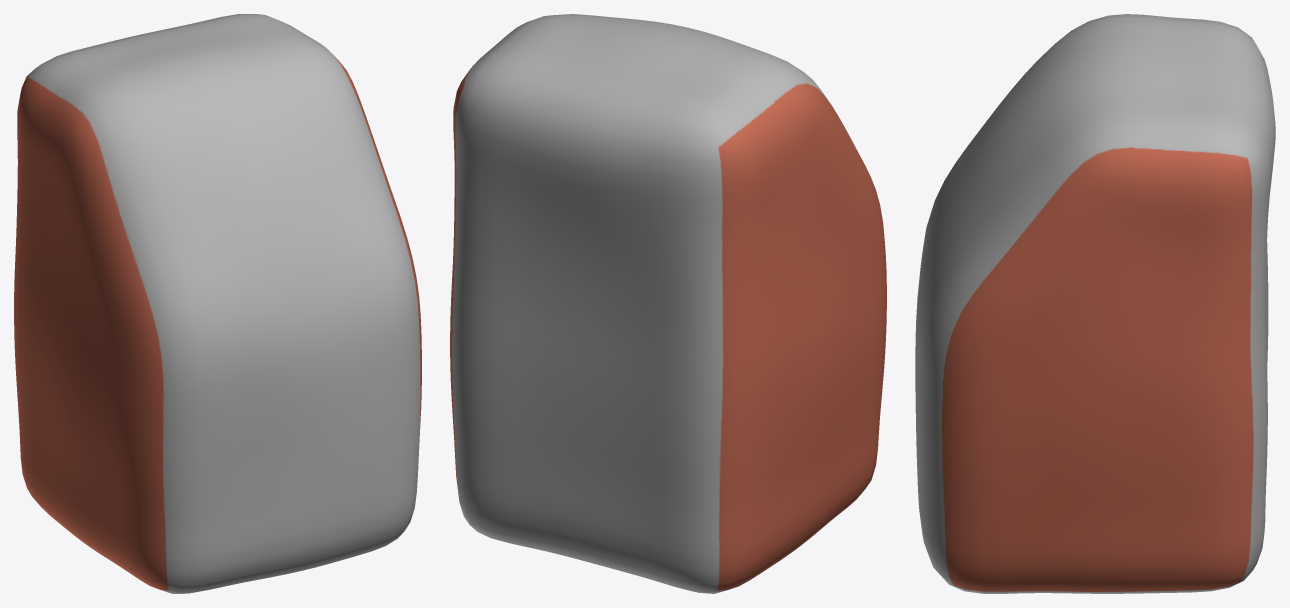
The model's file is Wing_L_S.fbx.
The picture shows the model from 3 angles, left to right: view 1: azimuth 30°, elevation 25°; view 2: azimuth 150°, elevation 25°; view 3: azimuth 270°, elevation 25°; orthographic projection. The views are drawn at different scales.
Parts seen in each view (by area): view 1: Wing_M; view 2: Wing_M; view 3: Wing_M.
Boxes of the visible parts, bbox=[...] form: Wing_M: bbox=[14, 14, 421, 593]; Wing_M: bbox=[450, 14, 886, 593]; Wing_M: bbox=[915, 14, 1275, 593].
Bounding box in the file's own units: 169 × 250 × 168.
